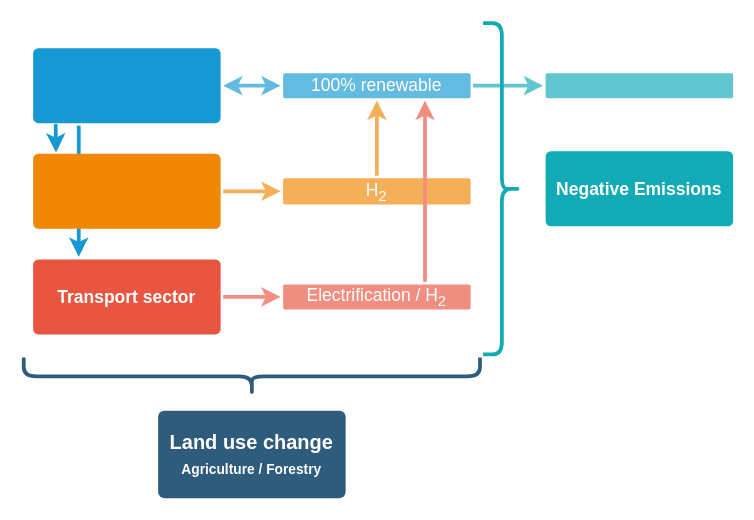
Image size: 754x520. Some labels were removed from this diagram. The centre of each missing label's shape, as x and y in pixels:
DACCS: (x=638, y=85)
Electric Sector: (x=126, y=85)
Industrial Sector: (x=126, y=190)
